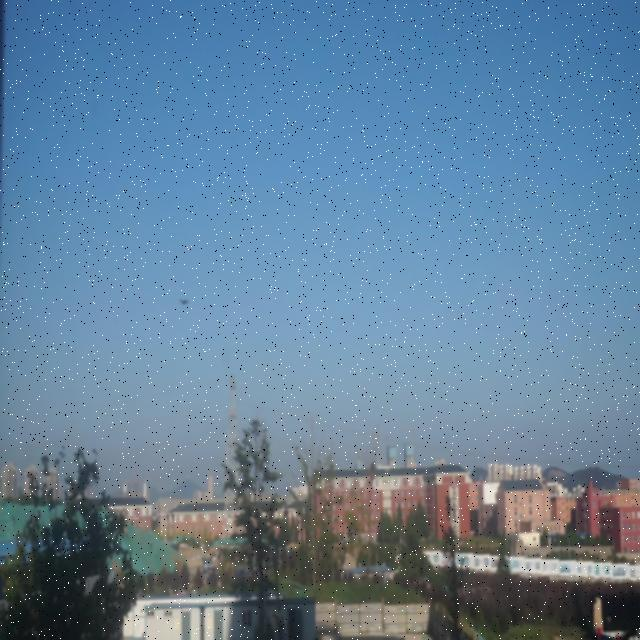UAV: (178, 298, 190, 305)
